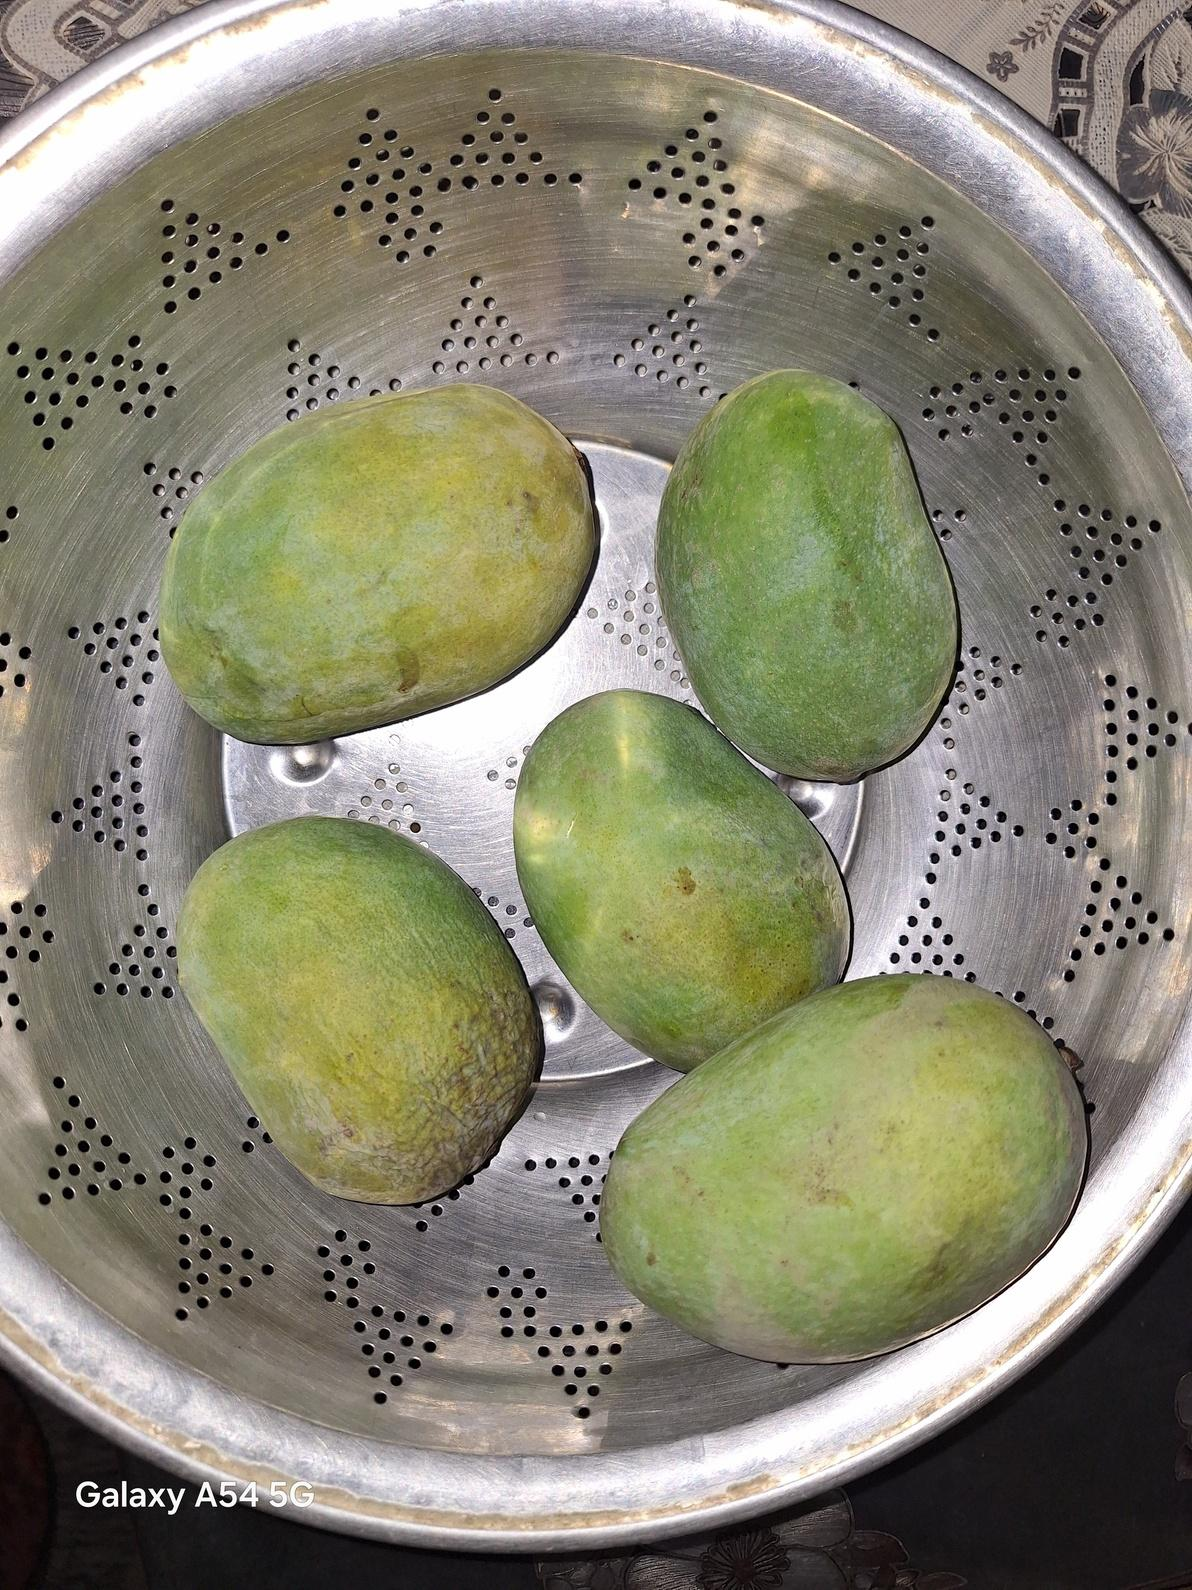mango: (597, 969, 1089, 1365), (157, 381, 599, 746), (174, 813, 543, 1207), (511, 686, 853, 1074), (652, 366, 960, 784)
